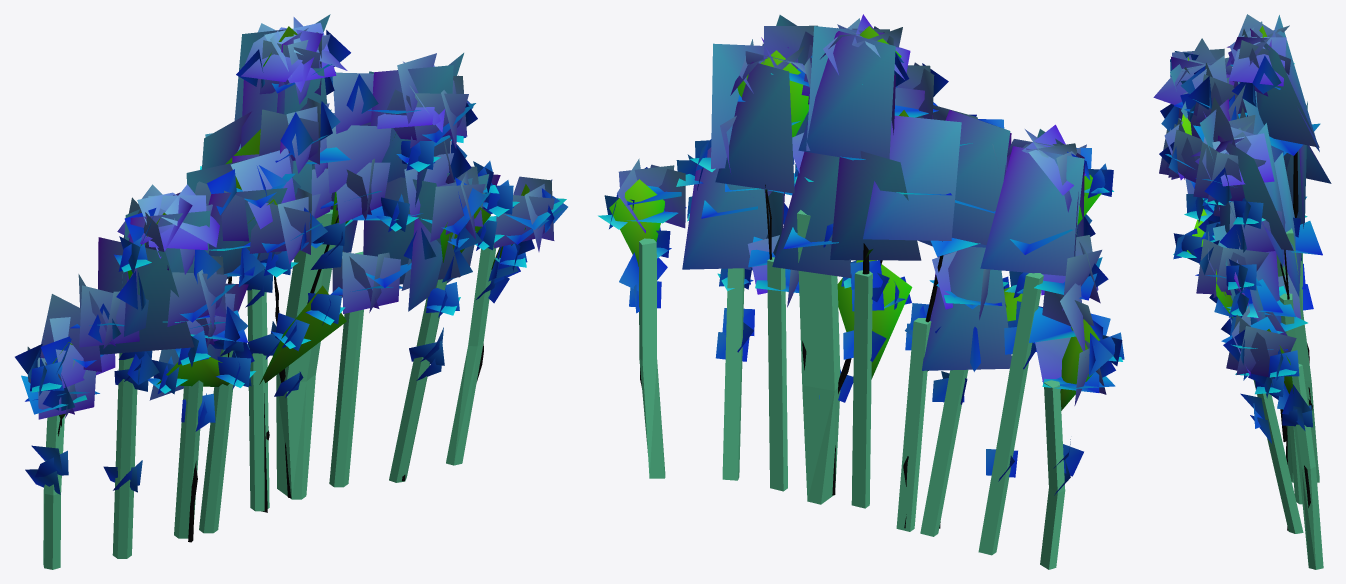
Rendered from tree_aspen_wall.dae.
The picture shows the model from 3 angles, left to right: view 1: azimuth 30°, elevation 25°; view 2: azimuth 150°, elevation 25°; view 3: azimuth 270°, elevation 25°; orthographic projection. The views are drawn at different scales.
Parts seen in each view (by area): view 1: tree_oak_bush_a450, tree_oak_bush_a250, Colmesh-1; view 2: tree_oak_bush_a450, Colmesh-1, tree_oak_bush_a250; view 3: tree_oak_bush_a450, tree_oak_bush_a250, Colmesh-1.
Part boxes in pixels (box(x1,y1,x2,y2)): tree_oak_bush_a450: box(15, 17, 567, 542); tree_oak_bush_a250: box(25, 14, 554, 520); Colmesh-1: box(43, 209, 496, 569); tree_oak_bush_a450: box(598, 14, 1124, 528); Colmesh-1: box(639, 210, 1065, 569); tree_oak_bush_a250: box(619, 25, 1112, 528); tree_oak_bush_a450: box(1153, 14, 1322, 530); tree_oak_bush_a250: box(1159, 14, 1331, 464); Colmesh-1: box(1253, 228, 1323, 569).
Size of the model in its own units: 12.87 by 4.13 by 11.72.
